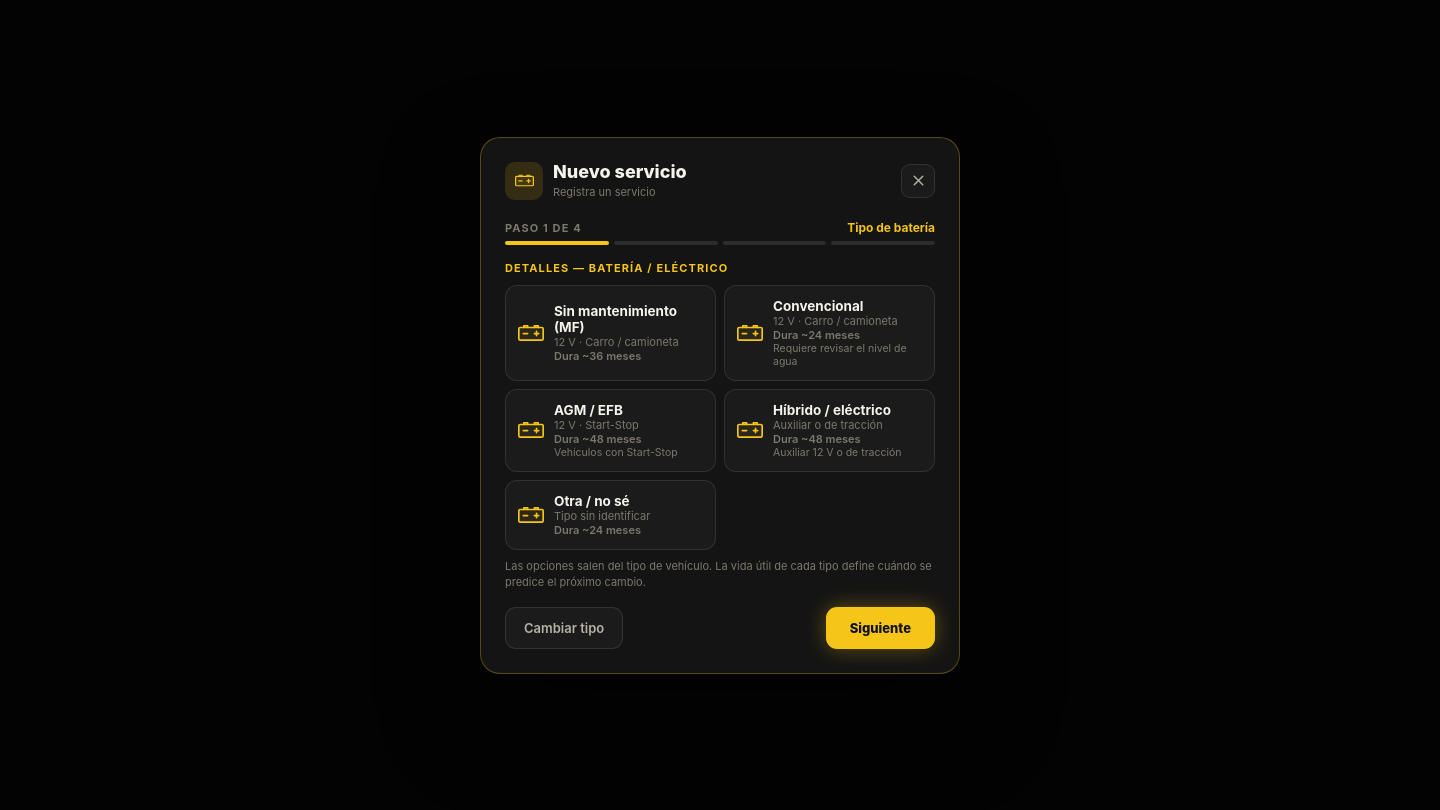
it: Registrar servicio > Batería (wizard de 4 pasos) › el voltaje se interpreta y uno imposible bloquea el paso
Click the radio button that starts with "Sin mantenimiento (MF)" at (610, 332), box [505,284,716,380]
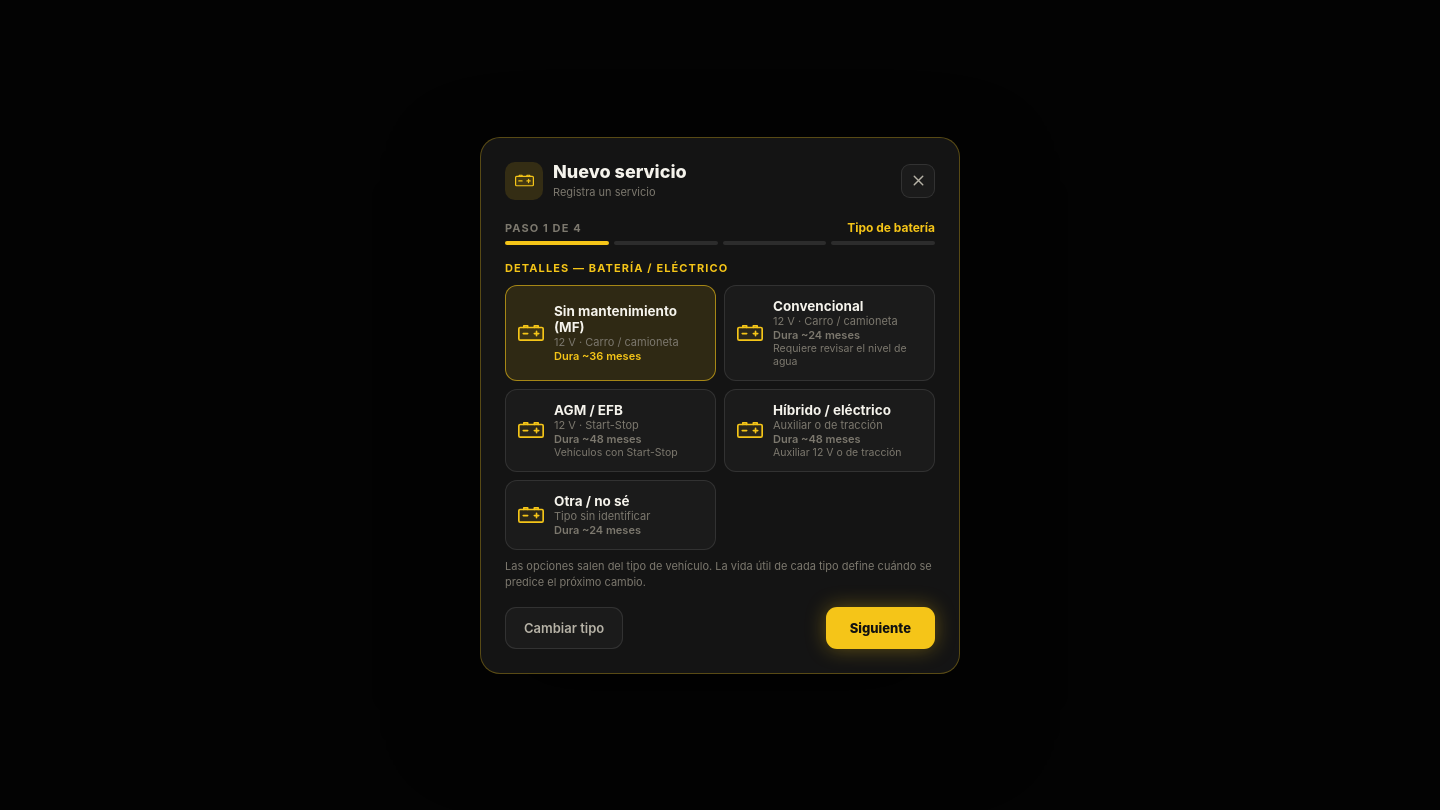
Click the button "Siguiente" at (880, 628), box [826,606,935,648]
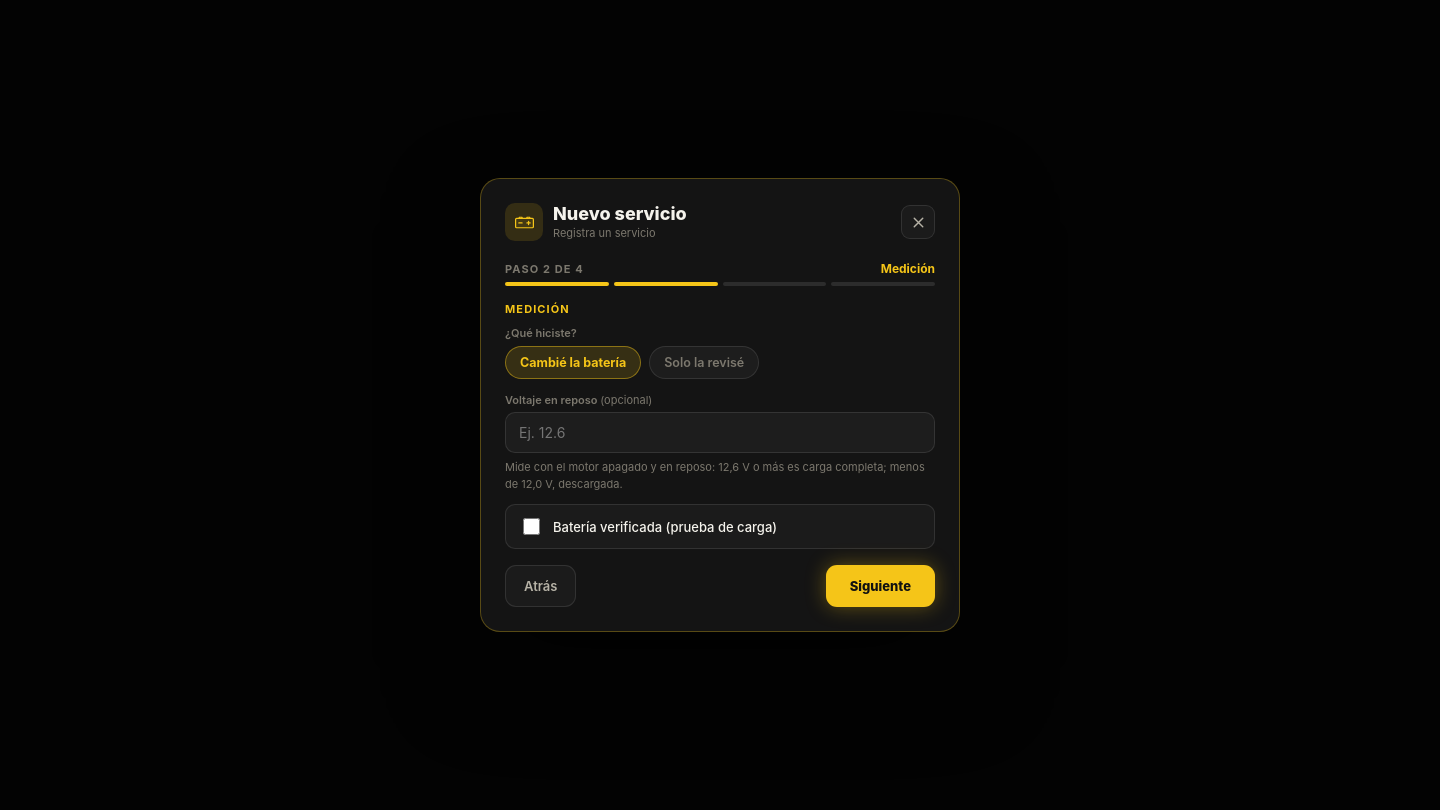
Type "12.7" into the field with placeholder "Ej. 12.6" at (720, 432), box [505,412,935,453]
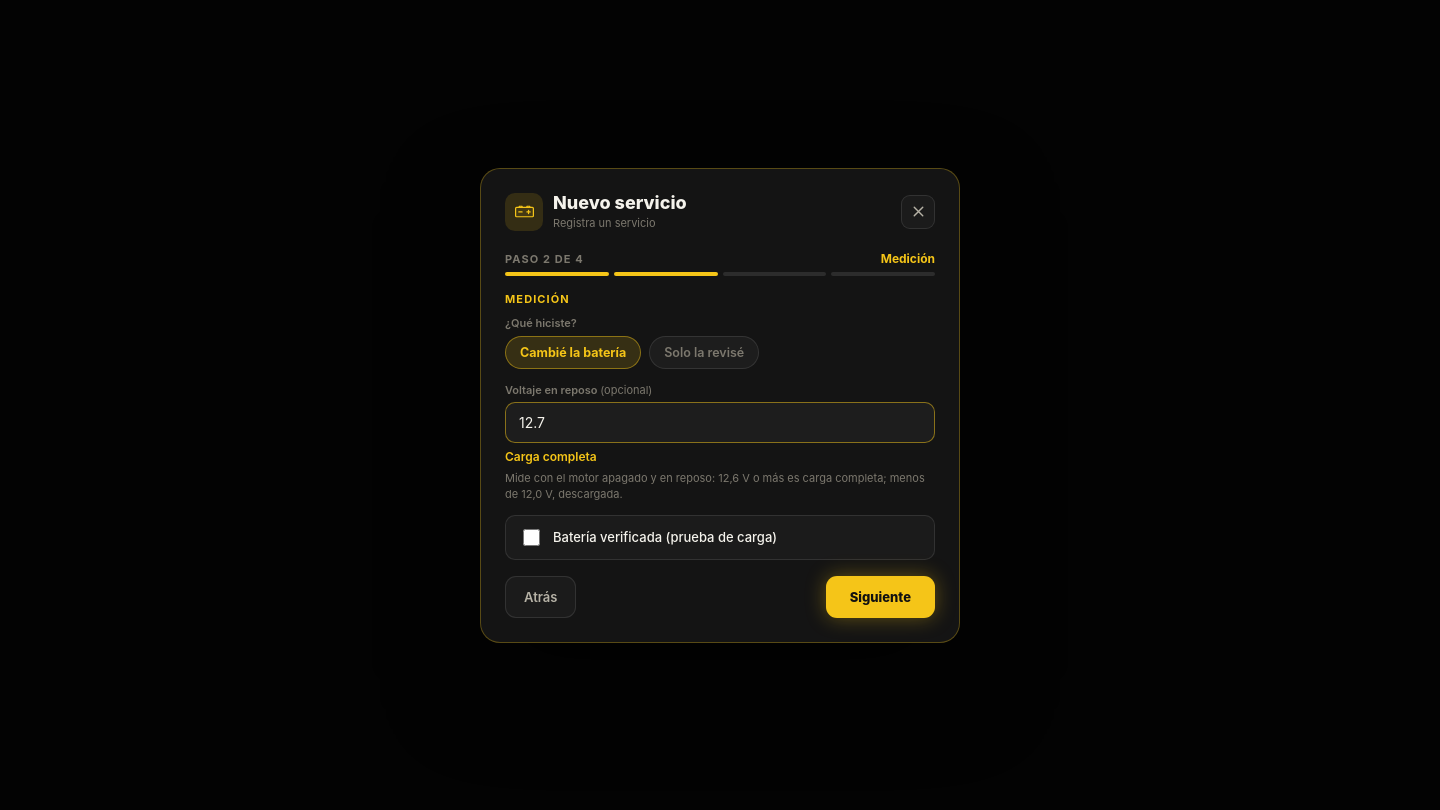
Check: the text "Carga completa" is shown, box [505,448,597,464]
Replace the text in the field with placeholder "Ej. 12.6" with "11.5" at (720, 422), box [505,402,935,442]
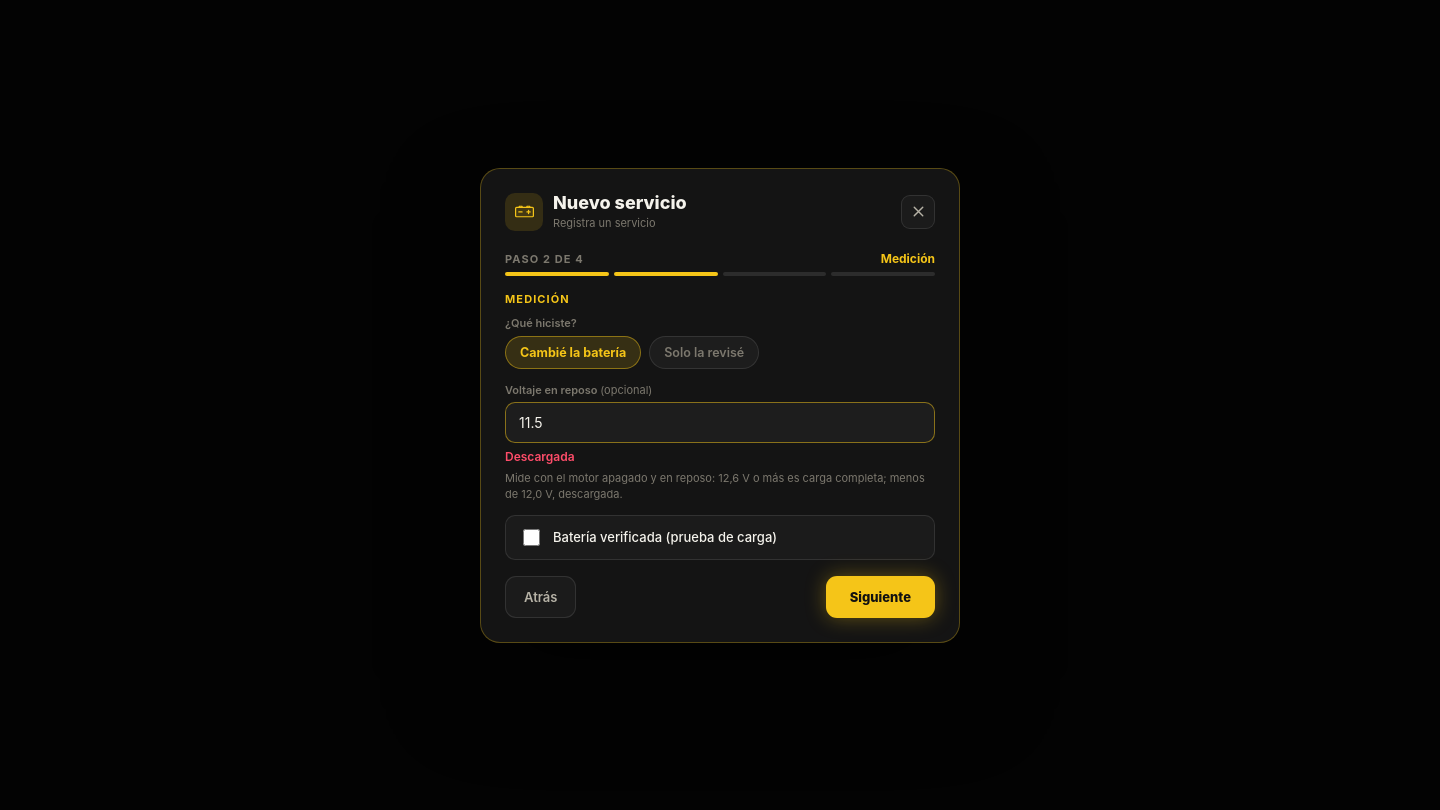
Check: the text "Descargada" is shown, box [505,448,575,464]
Replace the text in the field with placeholder "Ej. 12.6" with "99" at (720, 422), box [505,402,935,442]
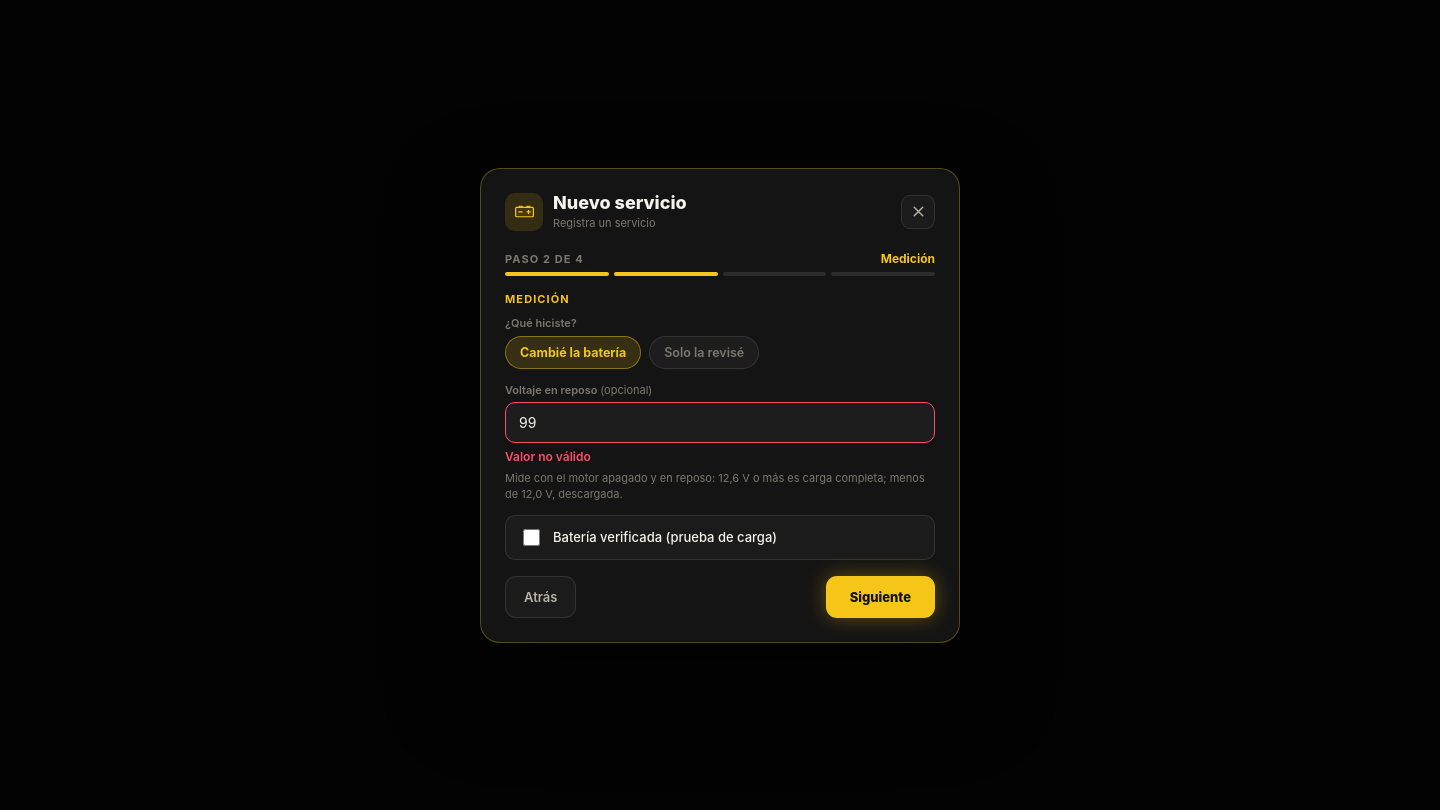
Click the button "Siguiente" at (880, 596), box [826,576,935,618]
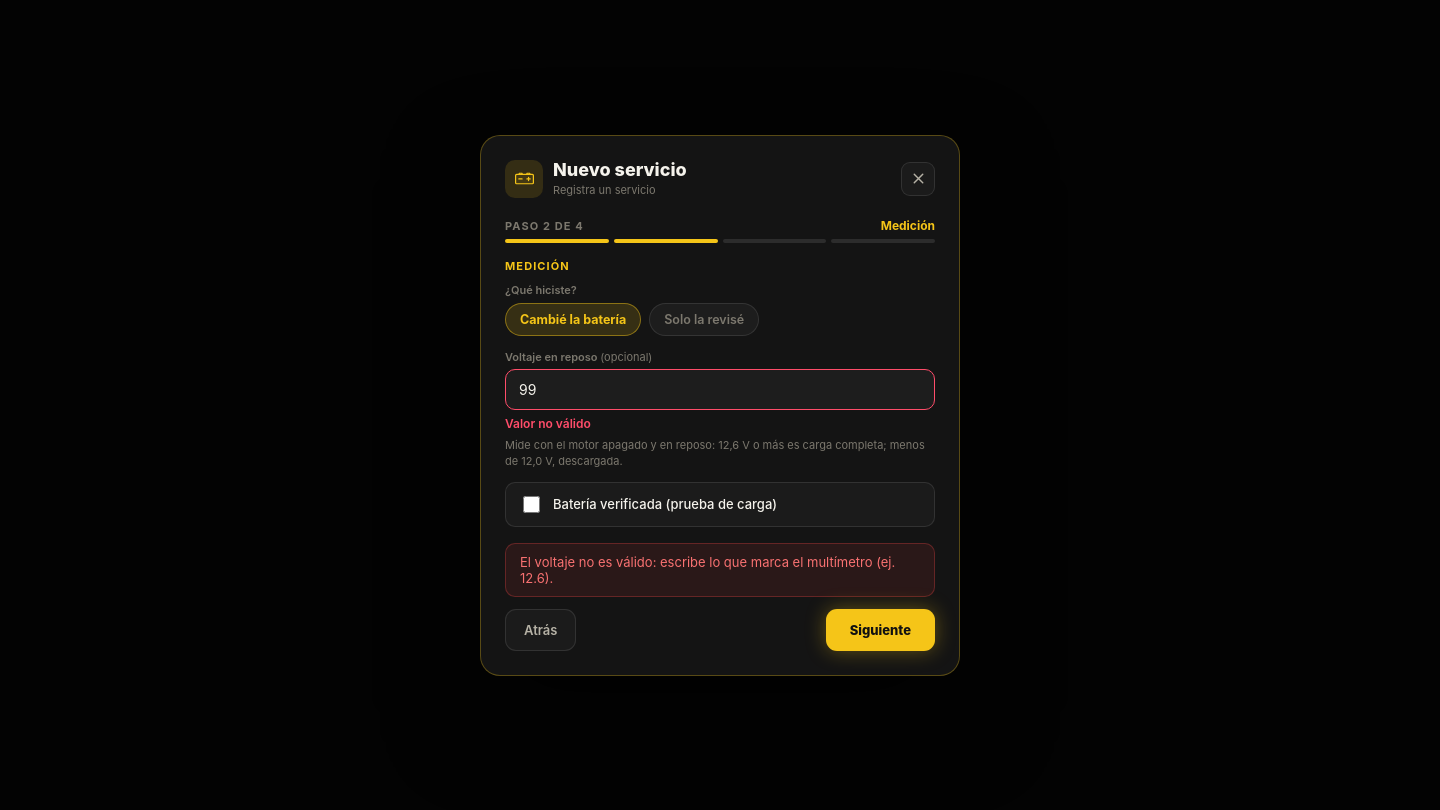
Check: the text "Paso 2 de 4" is shown, box [505,218,584,232]
Check: the text "El voltaje no es válido" is shown, box [520,554,895,586]
